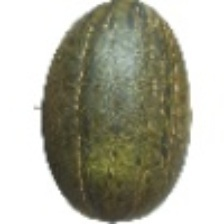honeydew: (54, 0, 196, 197)
